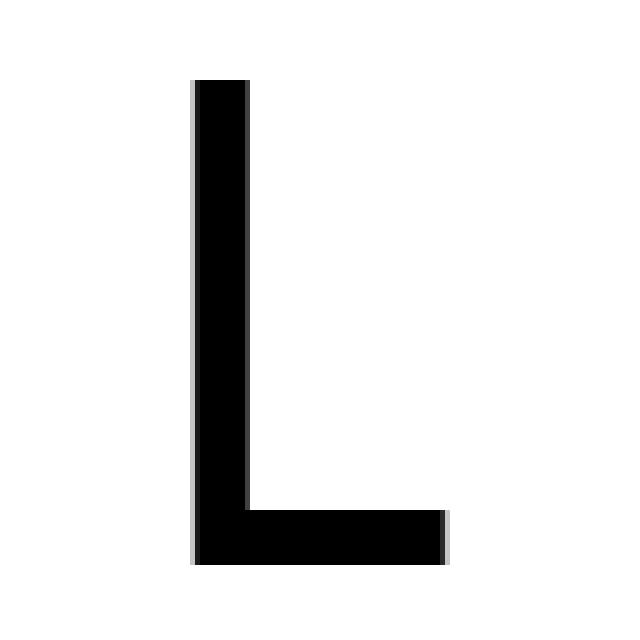L: (185, 70, 450, 565)
